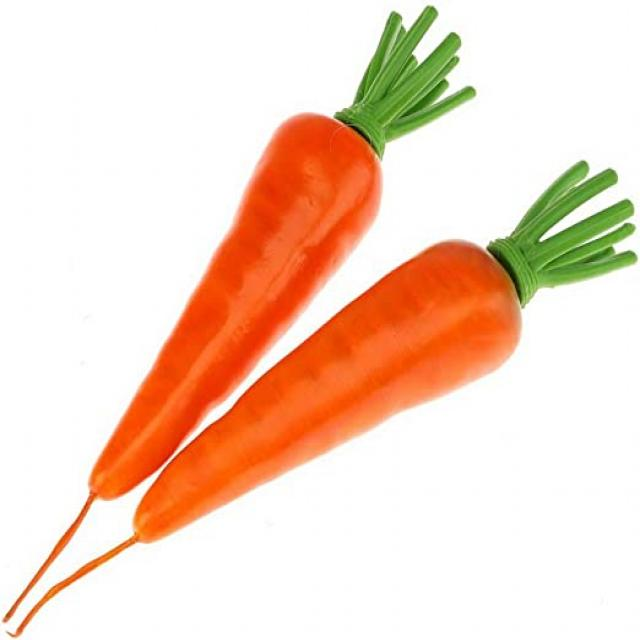Carrot: (0, 162, 640, 640), (0, 6, 480, 626)
